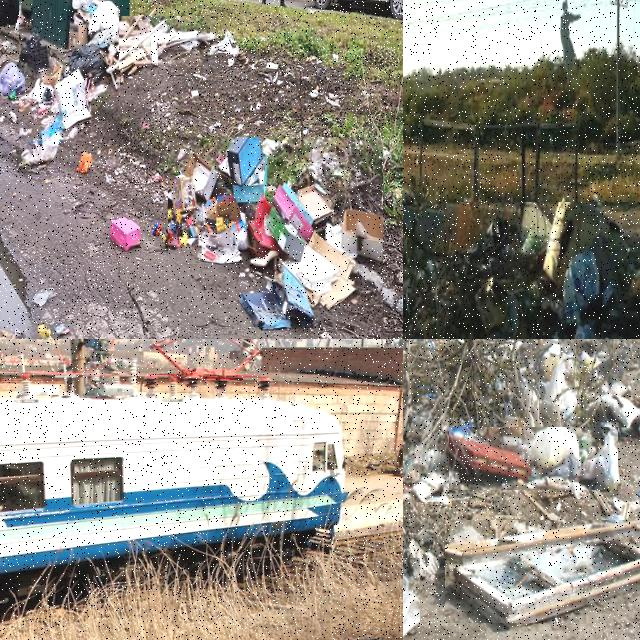lixeira: (169, 138, 385, 329), (446, 202, 639, 338), (445, 520, 639, 625), (18, 0, 122, 171), (403, 220, 513, 338), (449, 427, 620, 491), (539, 339, 639, 444), (403, 377, 451, 504), (120, 16, 220, 76), (0, 62, 27, 98), (111, 220, 141, 249), (0, 0, 20, 26)
